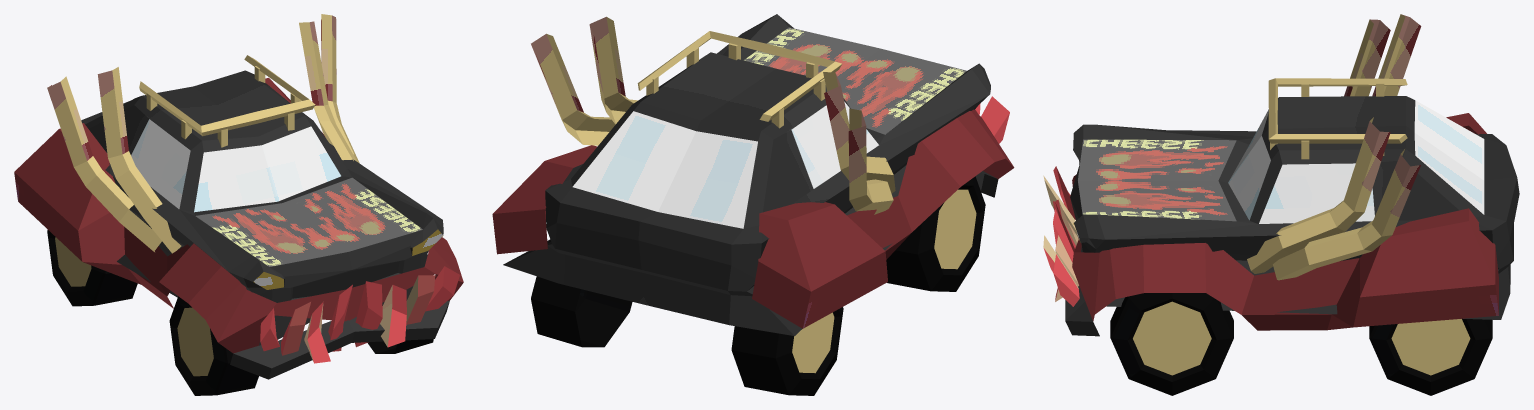
File: car03.gltf
3 renders of one model, left to right at view 1: azimuth 30°, elevation 25°; view 2: azimuth 150°, elevation 25°; view 3: azimuth 270°, elevation 25°, orthographic. The views are drawn at different scales.
Parts seen in each view (by area): view 1: Cube; view 2: Cube; view 3: Cube.
Boxes of the visible parts, box(x1,y1,x2,y2) form: Cube: box(14, 14, 463, 395); Cube: box(492, 14, 1014, 395); Cube: box(1043, 14, 1519, 395).
Size of the model in its own units: 4.61 by 3.92 by 6.22.
Materials: 1 (1 with a texture image).
